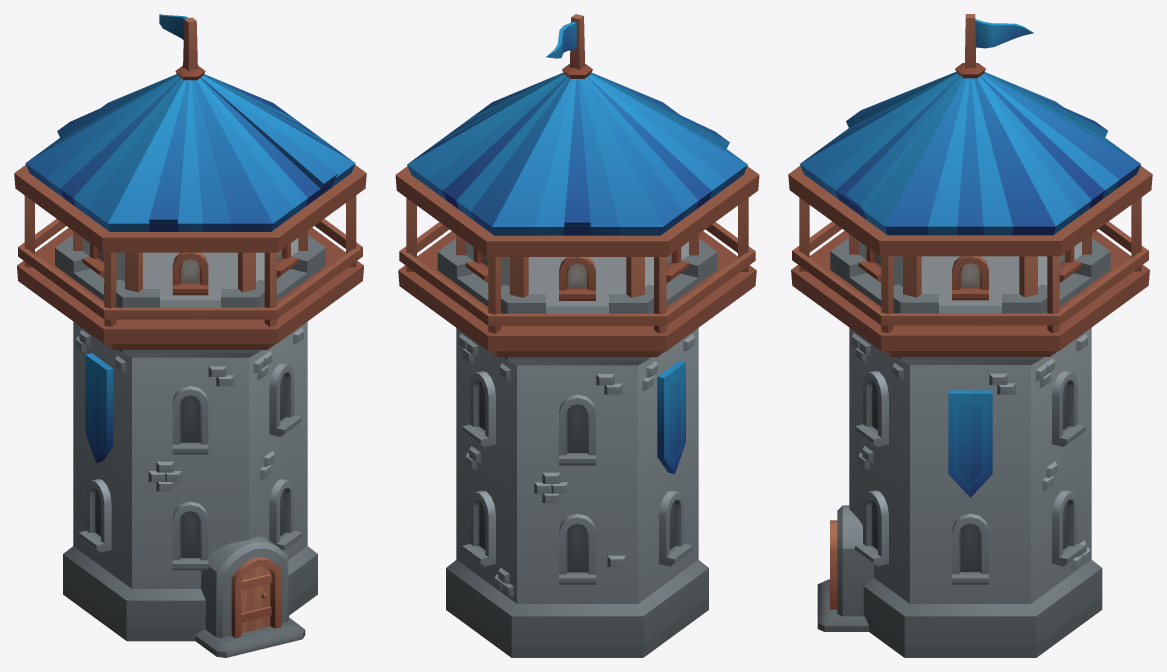
The model's file is tower_B.gltf.
The picture shows the model from 3 angles, left to right: view 1: azimuth 30°, elevation 25°; view 2: azimuth 150°, elevation 25°; view 3: azimuth 270°, elevation 25°; orthographic projection. The views are drawn at different scales.
Parts seen in each view (by area): view 1: building_tower_B_blue, building_tower_B_top_blue; view 2: building_tower_B_blue, building_tower_B_top_blue; view 3: building_tower_B_blue, building_tower_B_top_blue.
Boxes of the visible parts, x1=… form: building_tower_B_blue: x1=55, y1=235, x2=325, y2=657; building_tower_B_top_blue: x1=14, y1=14, x2=366, y2=349; building_tower_B_blue: x1=437, y1=238, x2=717, y2=657; building_tower_B_top_blue: x1=395, y1=14, x2=759, y2=357; building_tower_B_blue: x1=817, y1=238, x2=1110, y2=657; building_tower_B_top_blue: x1=788, y1=14, x2=1152, y2=356.
Size of the model in its own units: 1.2 by 2.49 by 1.38.
Materials: 1 (1 with a texture image).
